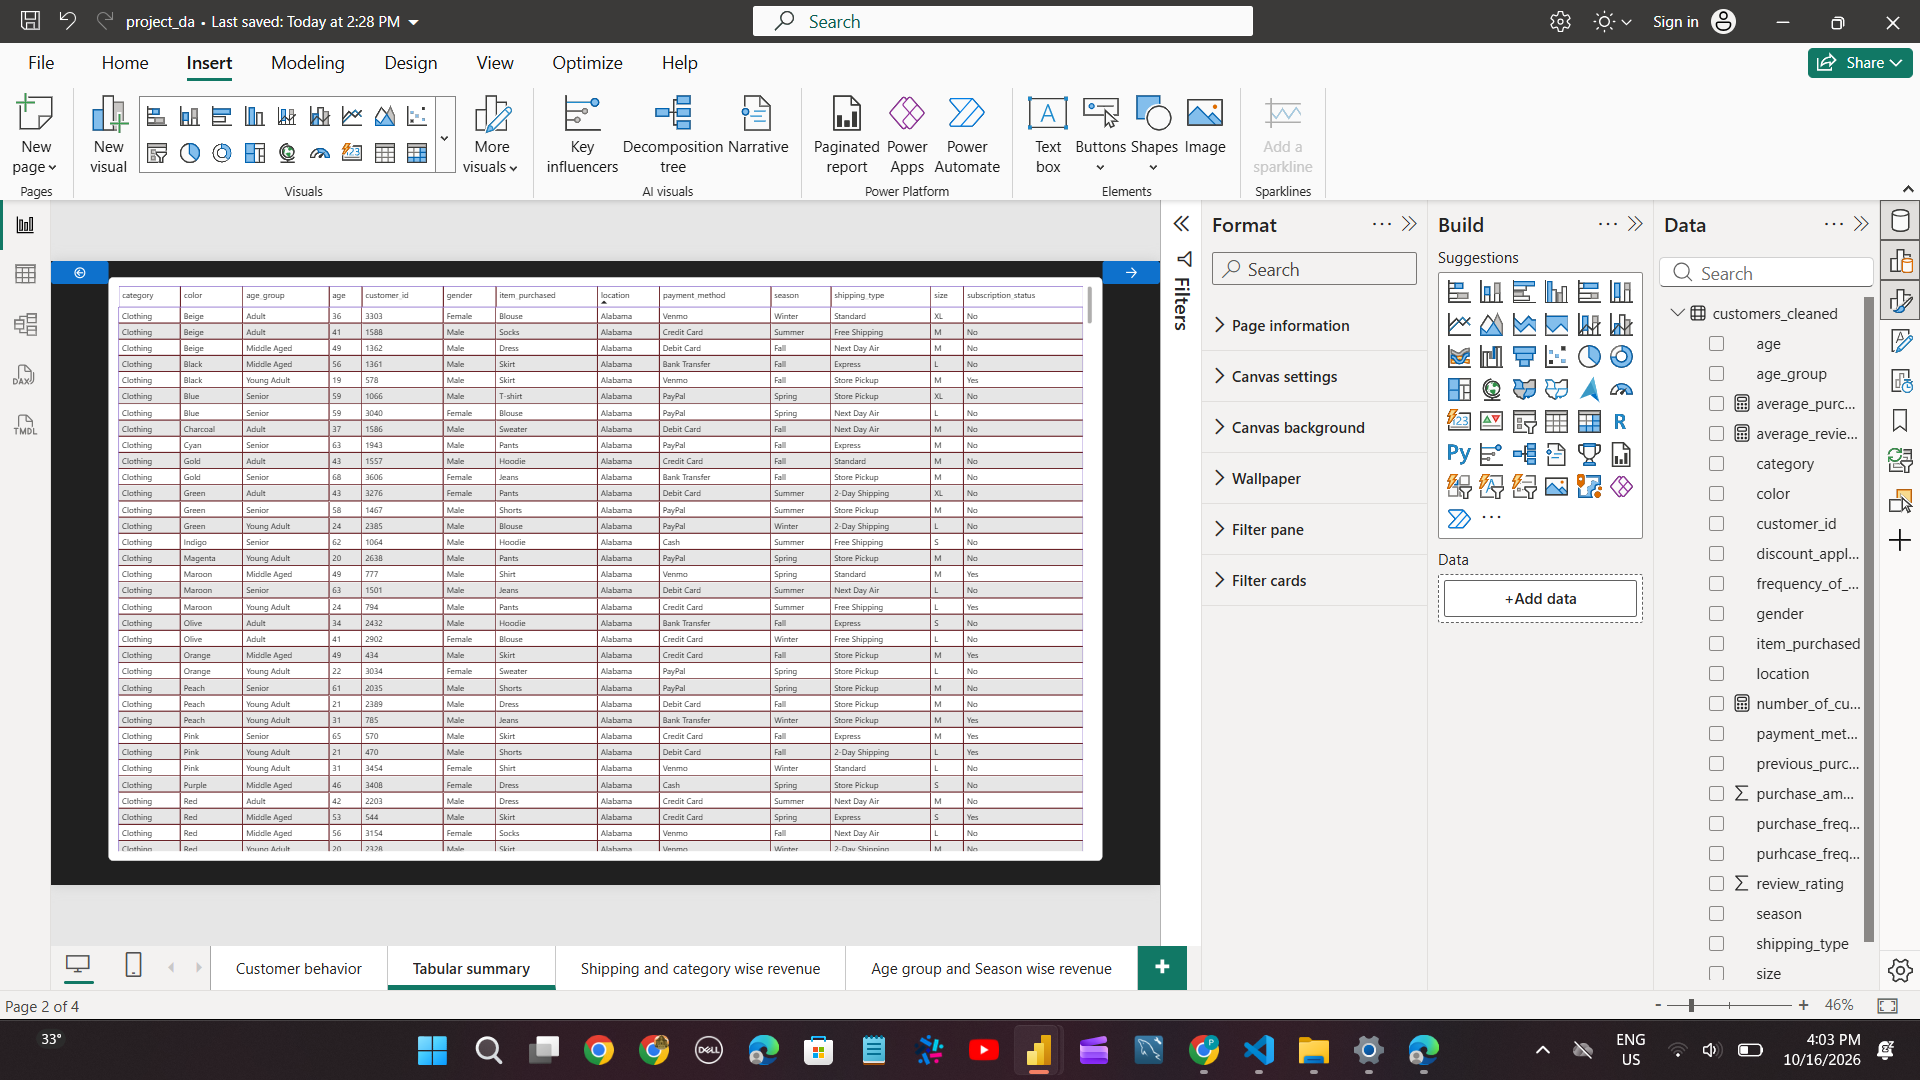

This screenshot's page, from the dashboard's own definition file:
{"tool":"powerbi","page":{"name":"Tabular summary","canvas":[1920,1080],"ordinal":1},"visuals":[{"type":"tableEx","fields":{"Values":["customers_cleaned.category","customers_cleaned.color","customers_cleaned.age_group","customers_cleaned.age","customers_cleaned.customer_id","customers_cleaned.gender","customers_cleaned.item_purchased","customers_cleaned.location","customers_cleaned.payment_method","customers_cleaned.season","customers_cleaned.shipping_type","customers_cleaned.size"]},"box":[34.6,28.1,1785.4,1010.7],"z":0},{"type":"actionButton","box":[0,0,100,40],"z":1000}]}

Visuals, with their boxes on the page's 1920x1080 design canvas (x1, y1, x2, y2). These are canvas units, not pixel positions in the 1920x1080 screenshot, which may show the page scaled, cropped or inside an application window:
tableEx - customers_cleaned.category x customers_cleaned.color: <box>35,28,1820,1039</box>
actionButton: <box>0,0,100,40</box>
